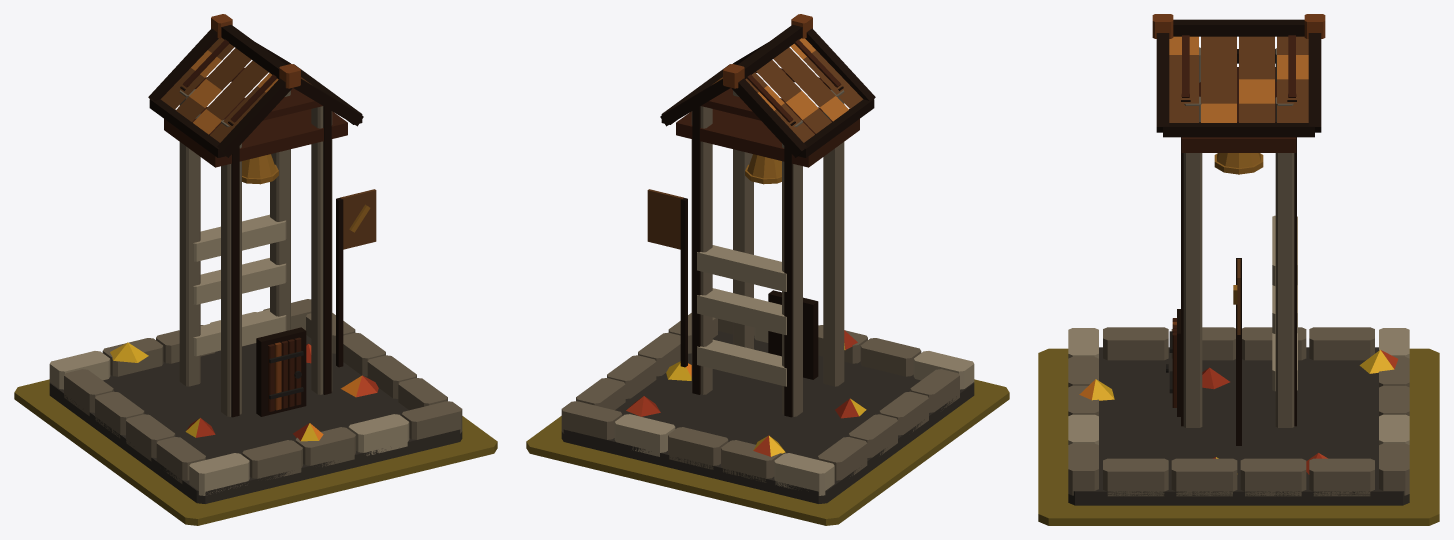
Rendered from bell-tower_t4.glb.
3 renders of one model, left to right at view 1: azimuth 30°, elevation 25°; view 2: azimuth 150°, elevation 25°; view 3: azimuth 270°, elevation 25°, orthographic. The views are drawn at different scales.
Visible parts, largest first — view 1: MMR | bell-tower | T04 Architecture.001, MMR | bell-tower | Tier 04 Ground.001, MMR | bell-tower | T04 Autumn Dressing.001, MMR | bell-tower | T04 Banner Flag 1.001, MMR | bell-tower | T04 Bell.001; view 2: MMR | bell-tower | T04 Architecture.001, MMR | bell-tower | Tier 04 Ground.001, MMR | bell-tower | T04 Banner Flag 1.001, MMR | bell-tower | T04 Autumn Dressing.001, MMR | bell-tower | T04 Bell.001; view 3: MMR | bell-tower | T04 Architecture.001, MMR | bell-tower | Tier 04 Ground.001, MMR | bell-tower | T04 Autumn Dressing.001, MMR | bell-tower | T04 Bell.001.
Boxes of the visible parts, x1,y1,x2,y2 form: MMR | bell-tower | T04 Architecture.001: [49, 14, 462, 503]; MMR | bell-tower | Tier 04 Ground.001: [14, 379, 497, 525]; MMR | bell-tower | T04 Autumn Dressing.001: [110, 342, 378, 441]; MMR | bell-tower | T04 Banner Flag 1.001: [340, 189, 376, 249]; MMR | bell-tower | T04 Bell.001: [242, 154, 278, 184]; MMR | bell-tower | T04 Architecture.001: [561, 14, 974, 503]; MMR | bell-tower | Tier 04 Ground.001: [526, 379, 1009, 525]; MMR | bell-tower | T04 Banner Flag 1.001: [647, 189, 683, 249]; MMR | bell-tower | T04 Autumn Dressing.001: [626, 330, 866, 456]; MMR | bell-tower | T04 Bell.001: [745, 154, 781, 184]; MMR | bell-tower | T04 Architecture.001: [1068, 14, 1409, 505]; MMR | bell-tower | Tier 04 Ground.001: [1038, 348, 1439, 525]; MMR | bell-tower | T04 Autumn Dressing.001: [1079, 350, 1398, 474]; MMR | bell-tower | T04 Bell.001: [1214, 153, 1263, 174].
Bounding box in the file's own units: 2.35 × 2.73 × 2.35.
Materials: 1 (1 with a texture image).
